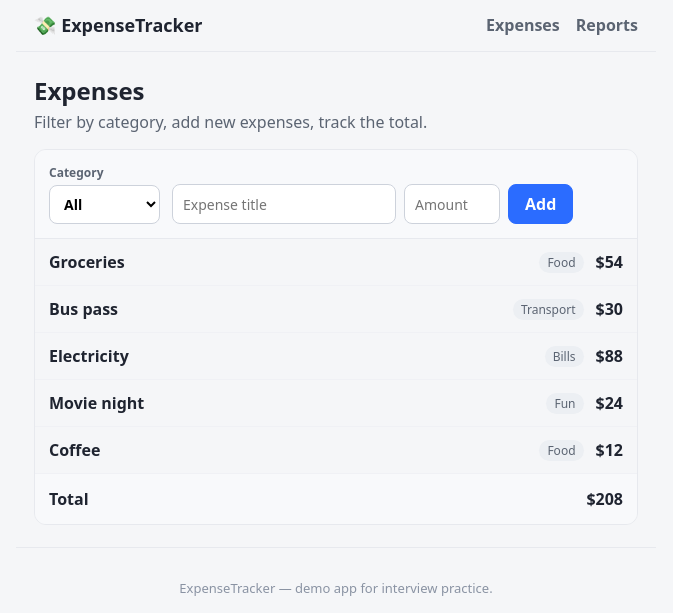
Test: m10 · ExpenseTracker — derived state (list + total stay fresh) › filters the list by category
Select "Food" in the dropdown with test id "category-filter" at (104, 204), box [49, 185, 160, 224]
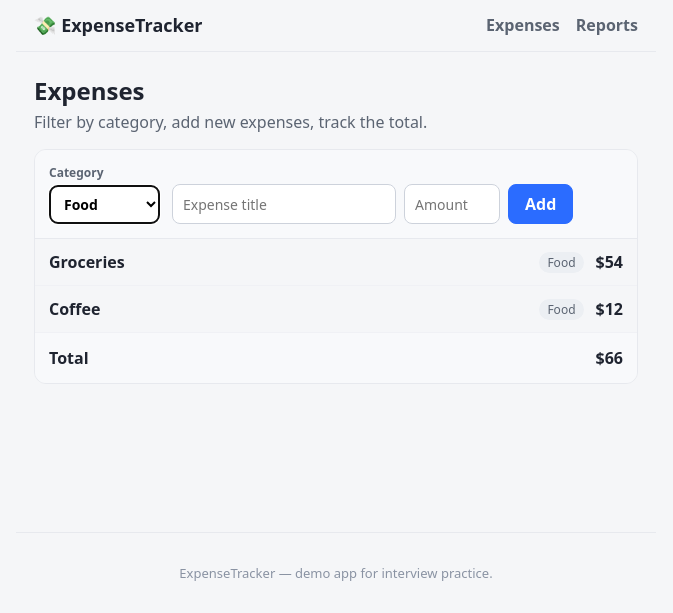
Now the text with test id "total" shows "66", box [605, 347, 623, 369]
